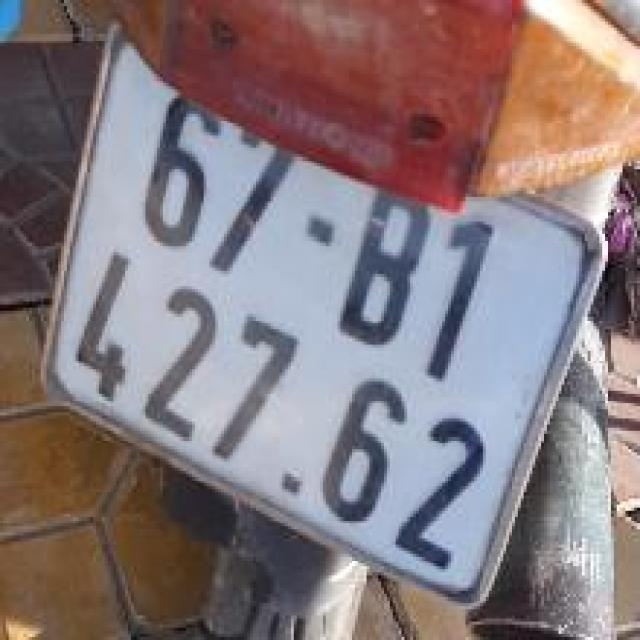1: (402, 208, 504, 396)
2: (386, 400, 503, 585), (135, 275, 233, 451)
4: (63, 238, 158, 412)
6: (310, 367, 425, 543), (129, 83, 238, 263)
7: (190, 109, 308, 290), (203, 301, 312, 487)
B: (324, 172, 448, 367)
